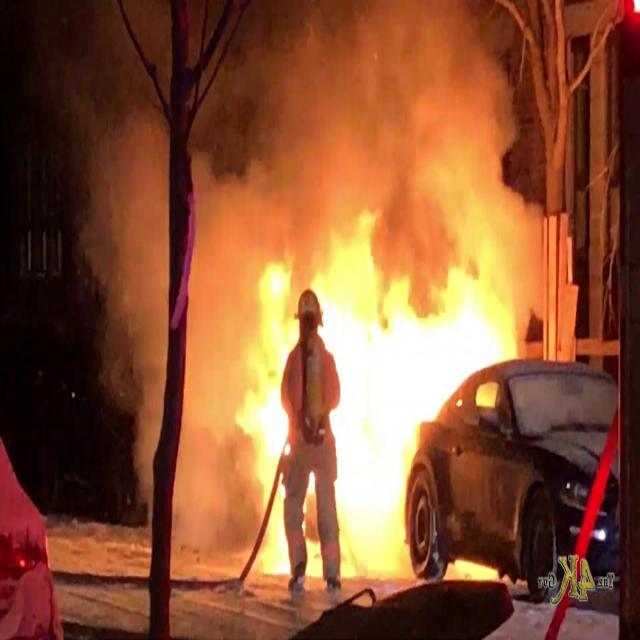fire: (173, 43, 545, 578)
